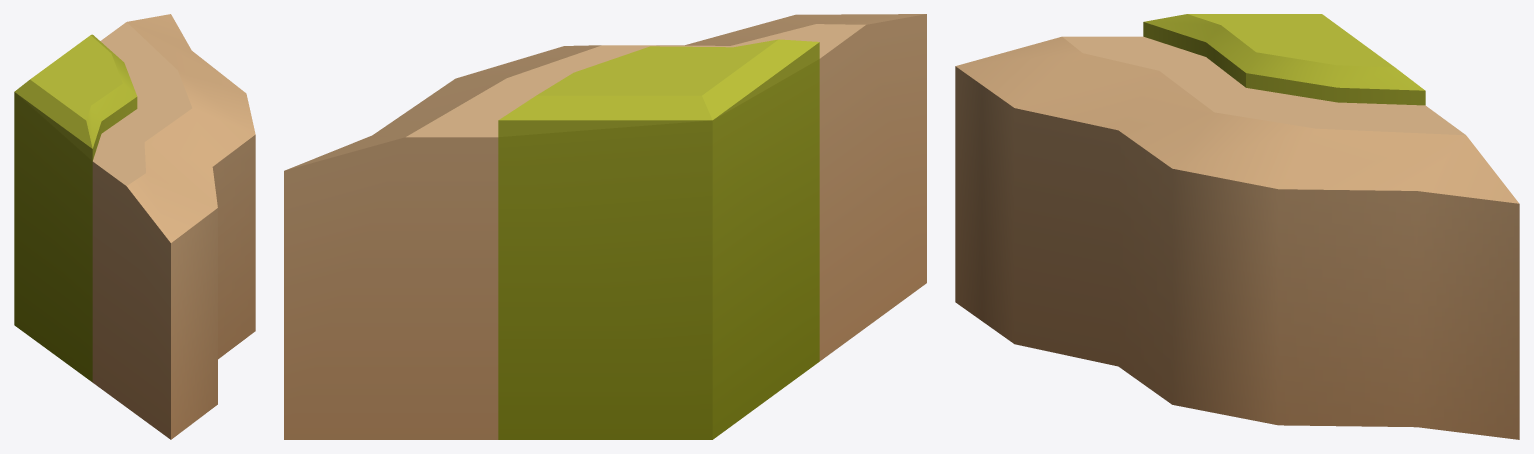
The model's file is hex_coast_D_waterless.glb.
The picture shows the model from 3 angles, left to right: view 1: azimuth 30°, elevation 25°; view 2: azimuth 150°, elevation 25°; view 3: azimuth 270°, elevation 25°; orthographic projection. The views are drawn at different scales.
Visible parts, largest first — view 1: hex_coast_D_waterless; view 2: hex_coast_D_waterless; view 3: hex_coast_D_waterless.
Boxes of the visible parts, bbox=[...] form: hex_coast_D_waterless: bbox=[14, 14, 255, 439]; hex_coast_D_waterless: bbox=[284, 14, 926, 439]; hex_coast_D_waterless: bbox=[955, 14, 1519, 439].
Size of the model in its own units: 1 by 1 by 1.73.
1 material, 1 textured.
